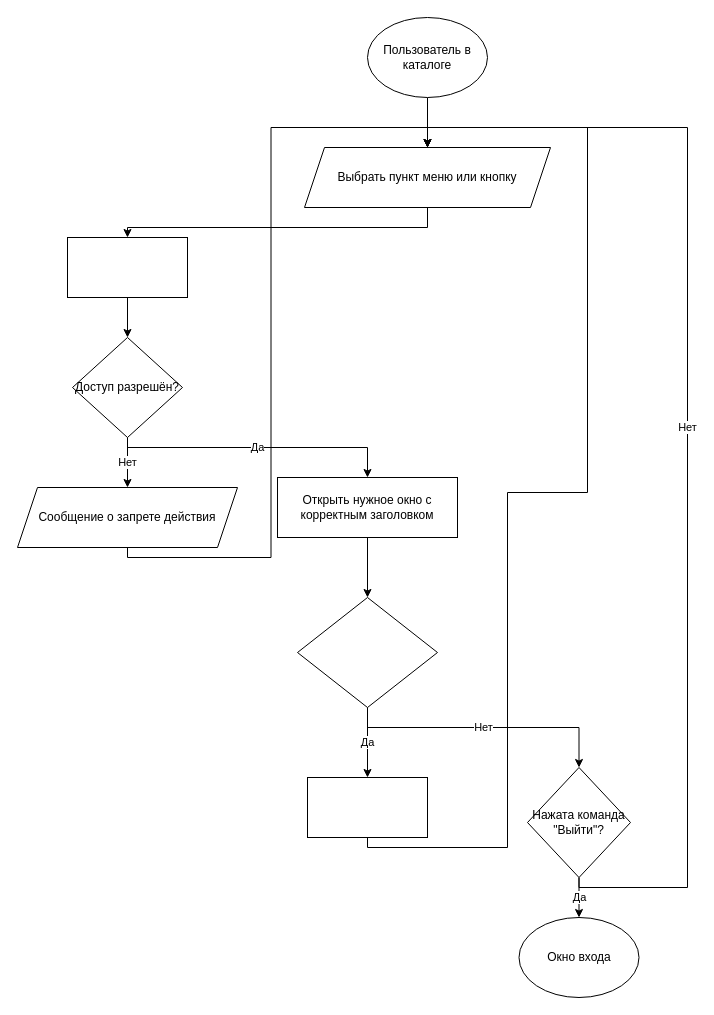
Image size: 714x1015. Some labels were removed from this diagram. The shapes that lost their labels are listed below. From the top down, each one's centre as x and y in pixels, then its label:
point (127, 267): Проверить право доступа
point (367, 652): Нажата кнопка "Назад"?
point (367, 807): Вернуться на предыдущее окно
